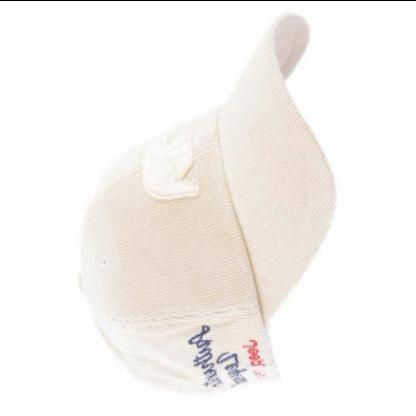cap: (60, 12, 339, 399)
